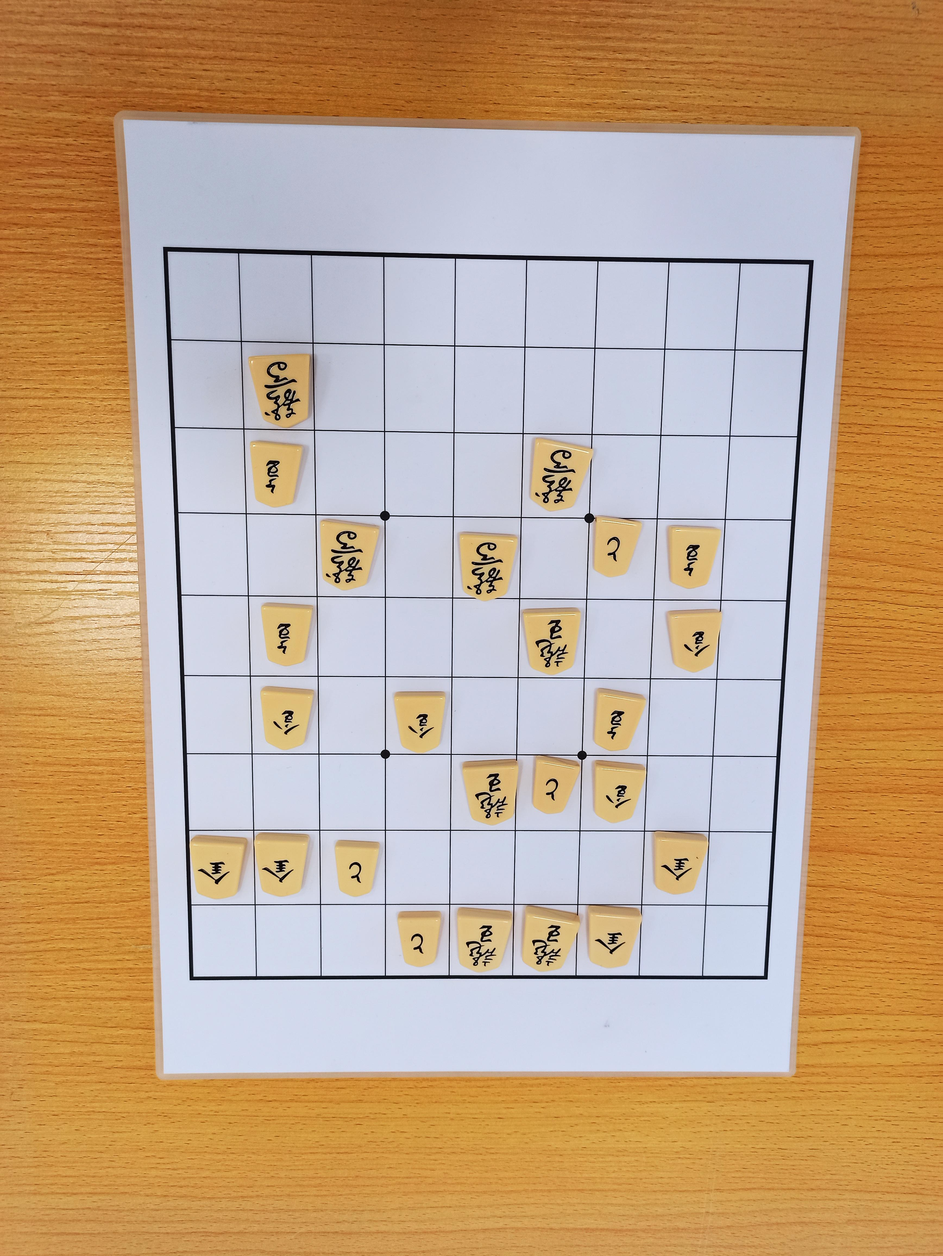board: (167, 248, 811, 979)
